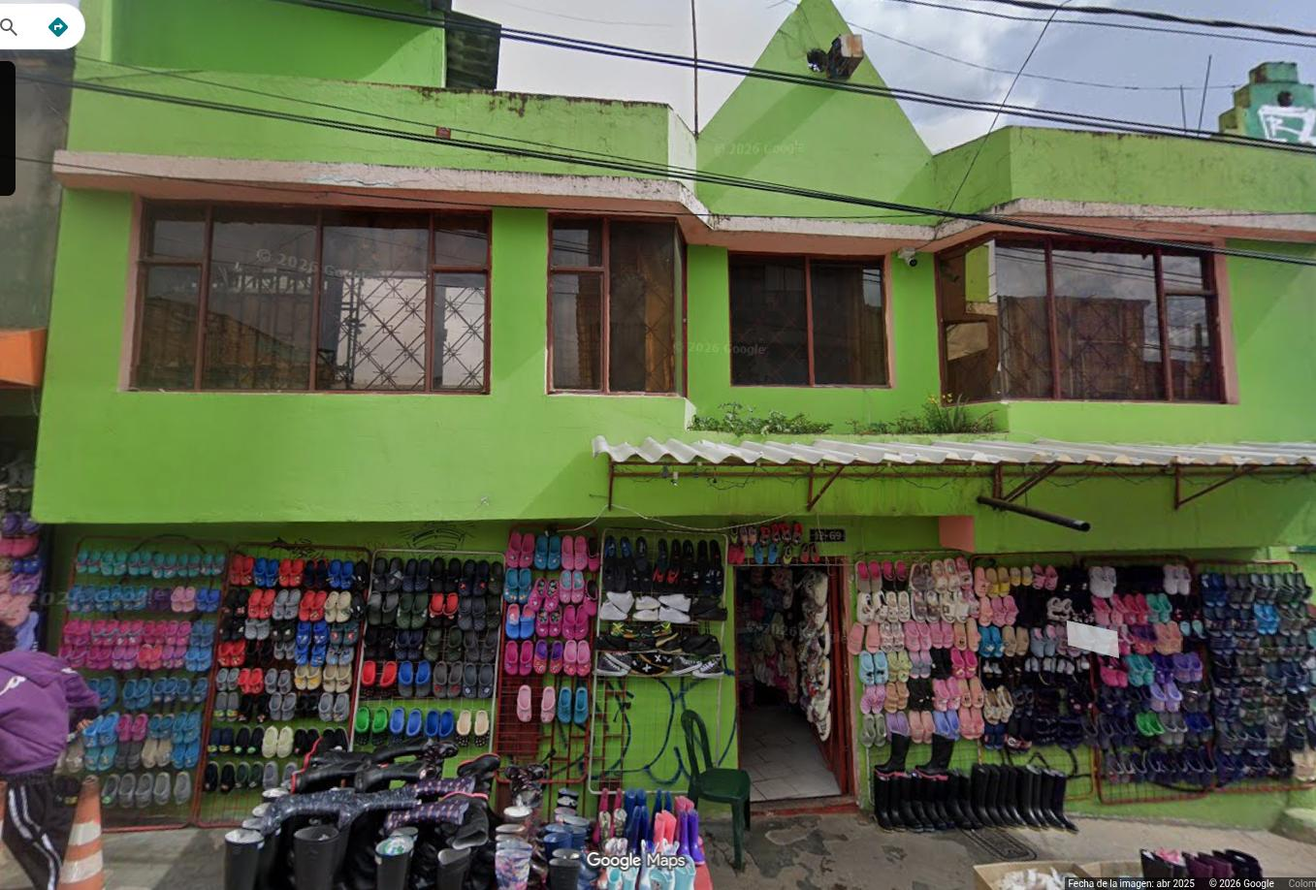casa: (16, 0, 1315, 814)
